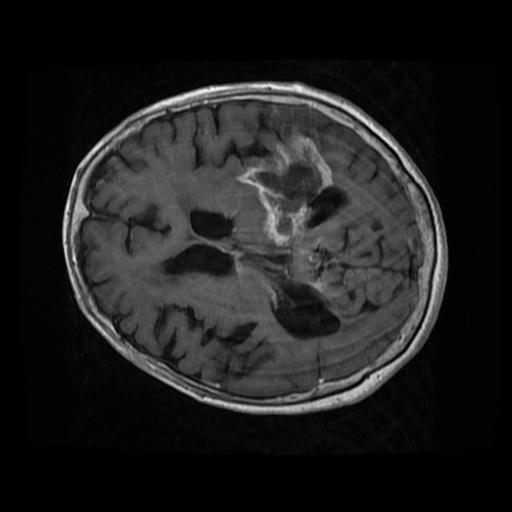glioma: (235, 129, 331, 256)
